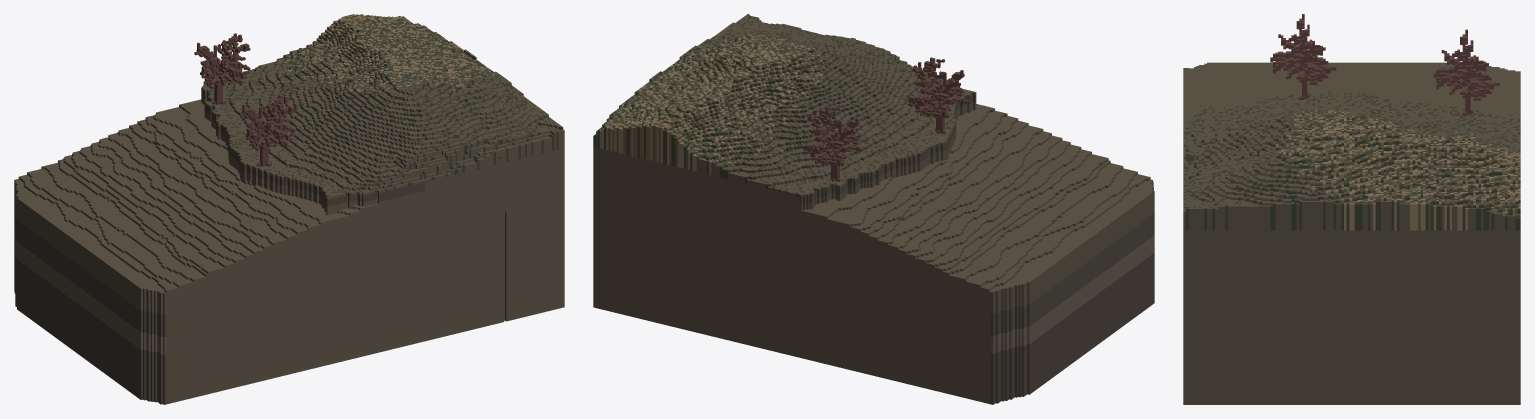
The model's file is Combined Desert(2)-9-tile 9 - above water 1.obj.
3 views of the same model, side by side, from view 1: azimuth 30°, elevation 25°; view 2: azimuth 150°, elevation 25°; view 3: azimuth 270°, elevation 25° (orthographic). The views are drawn at different scales.
Visible parts, largest first — view 1: tile 9 - above water 1; view 2: tile 9 - above water 1; view 3: tile 9 - above water 1.
Part boxes in pixels (x1,y1,x2,y2): tile 9 - above water 1: (14, 14, 564, 404); tile 9 - above water 1: (593, 14, 1154, 404); tile 9 - above water 1: (1183, 14, 1520, 404).
Bounding box in the file's own units: 19.8 × 10.4 × 12.8.
1 material, 1 textured.
